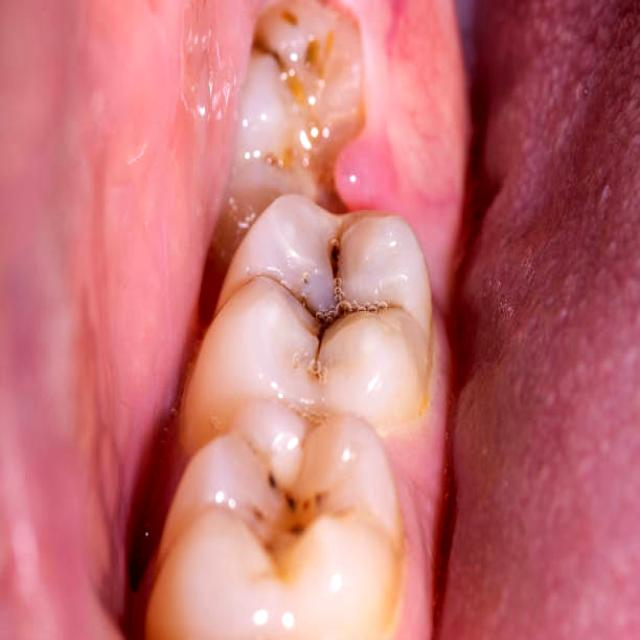cariess: (226, 246, 428, 379), (204, 433, 326, 628)
